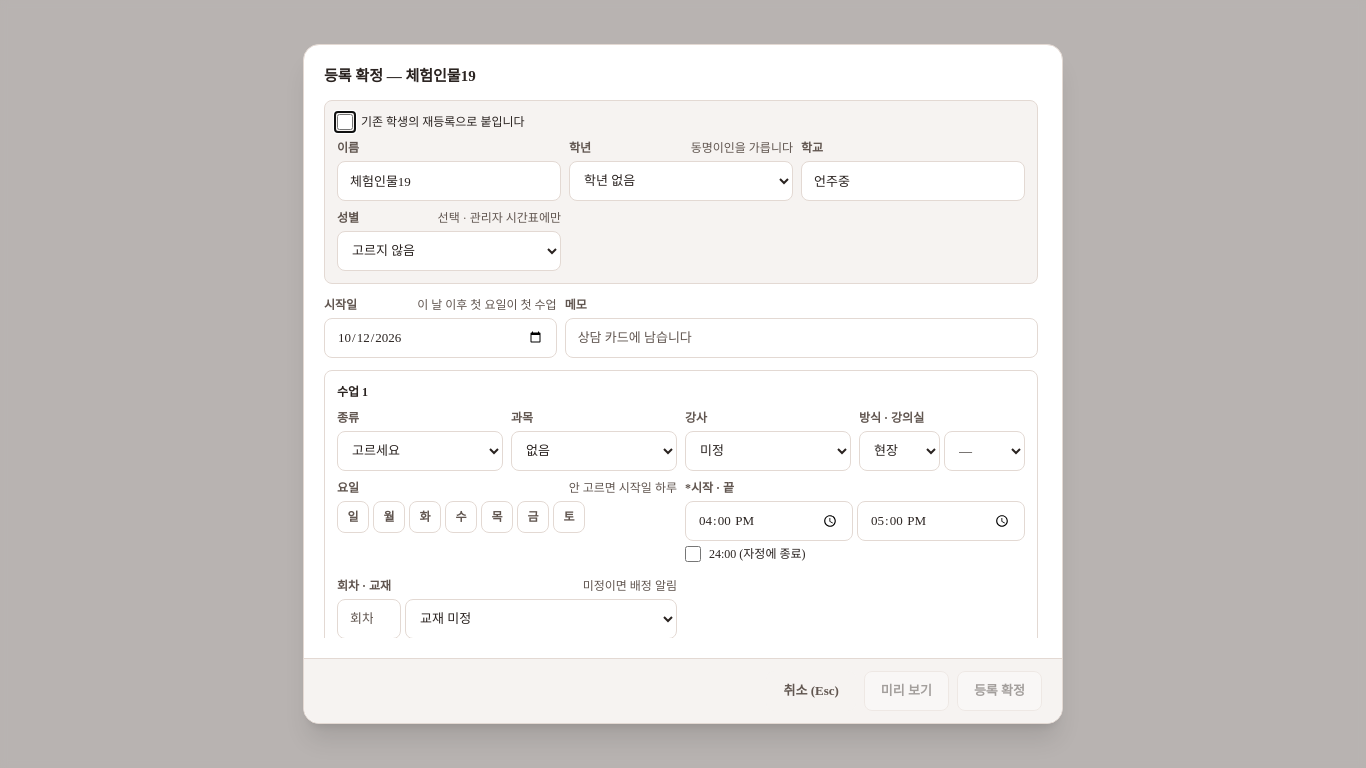
A-01 — 문의 연락처가 보호자로 이어지면 미리보기에 이름 · 서버의 번호 모양 · 「받는 채널은 보호자 화면에서」가 선다 · 없으면 줄이 없다
The image size is (1366, 768).
Type "2026-10-01" into the date field labelled "시작일" at (440, 338), box [324, 318, 557, 358]
(page scrolled)
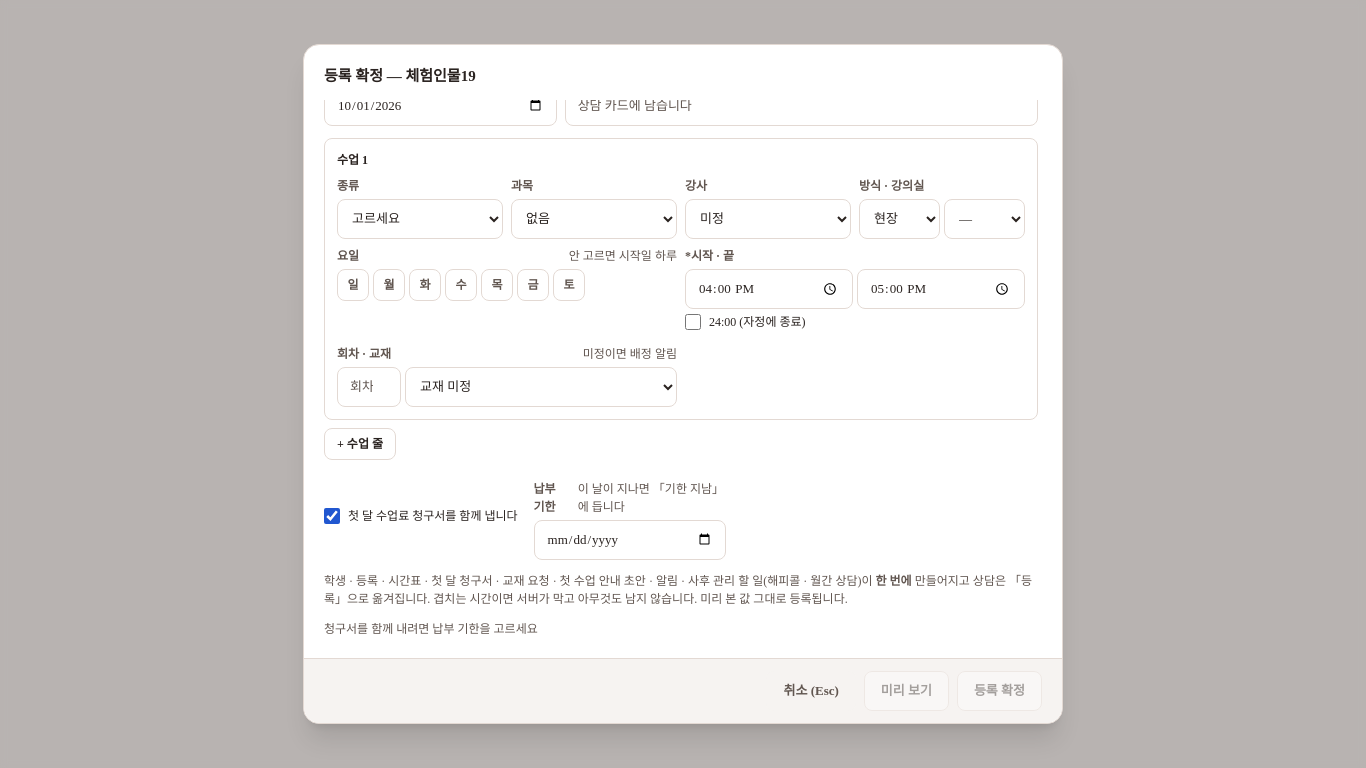
Type "2026-10-25" into the date field labelled "납부 기한" at (630, 540), box [534, 520, 726, 560]
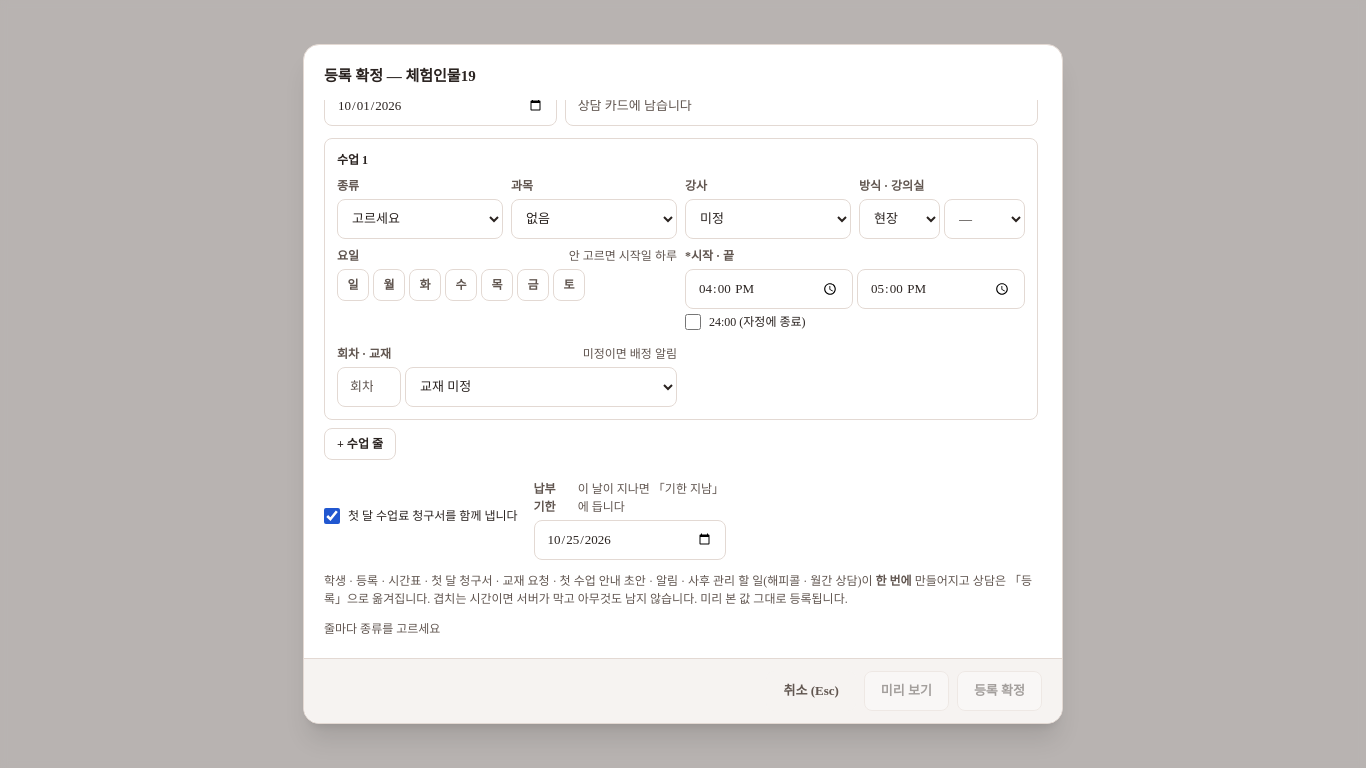
Select "수업" in the dropdown named "수업 1 종류" at (420, 219), box [337, 199, 503, 239]
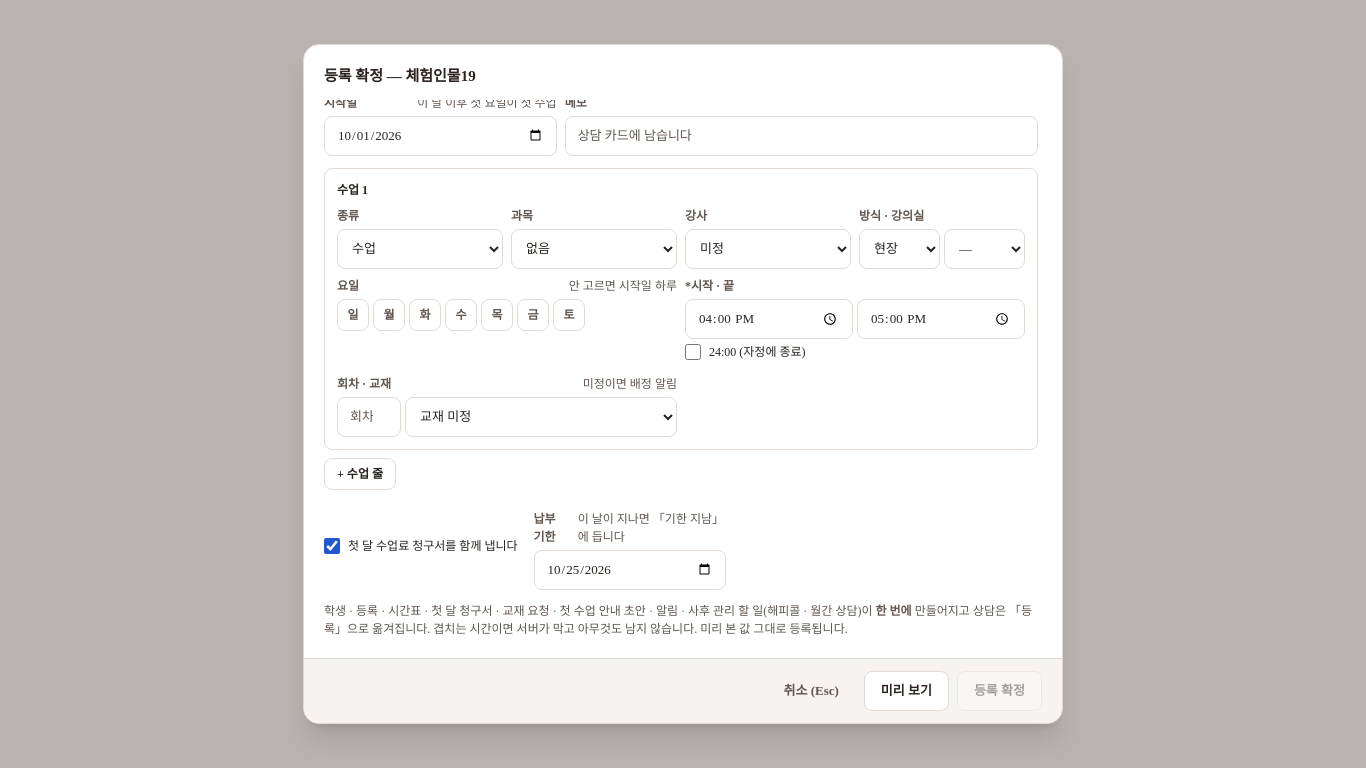
Select "Writing" in the dropdown named "수업 1 과목" at (594, 249), box [511, 229, 677, 269]
Select "체험인물11" in the dropdown named "수업 1 강사" at (768, 249), box [685, 229, 851, 269]
Click the button named "수업 1 월요일" at (389, 315), box [373, 299, 405, 331]
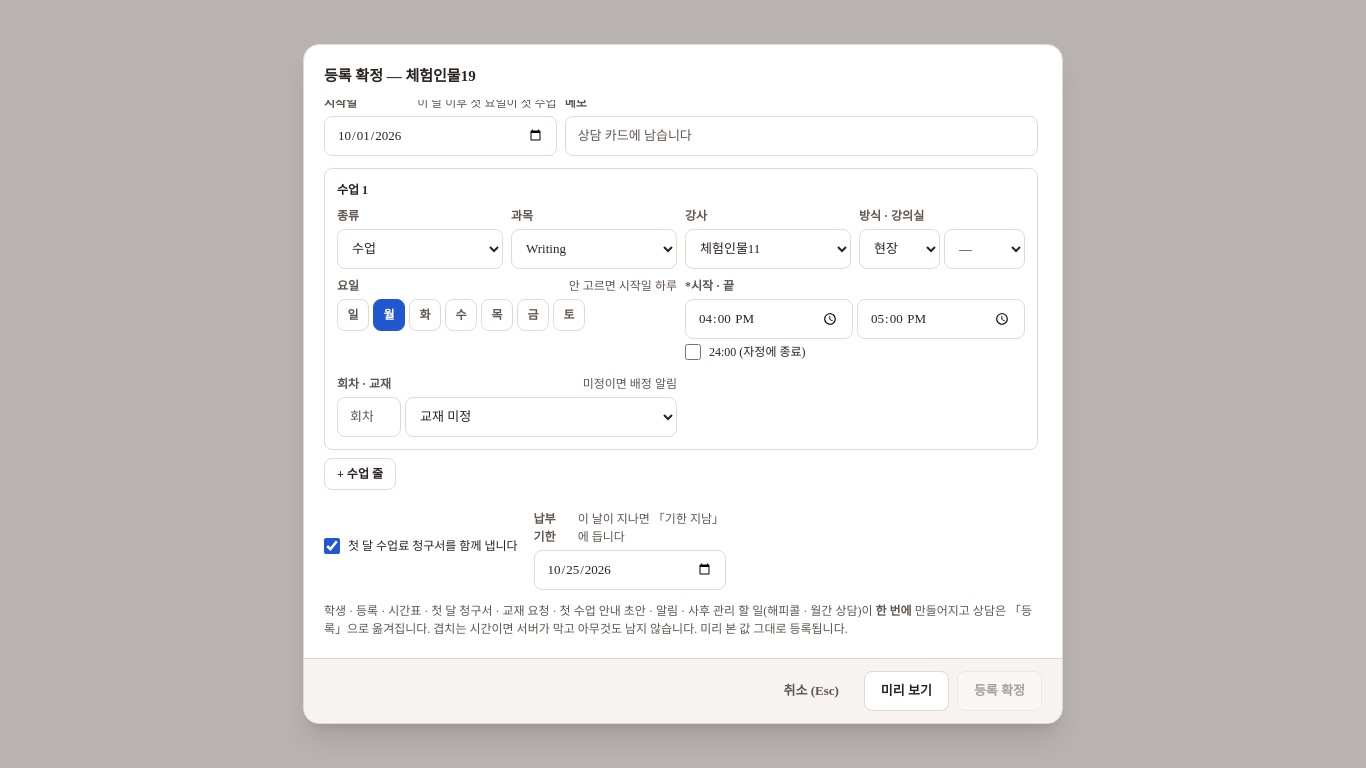
Click the button named "수업 1 수요일" at (461, 315), box [445, 299, 477, 331]
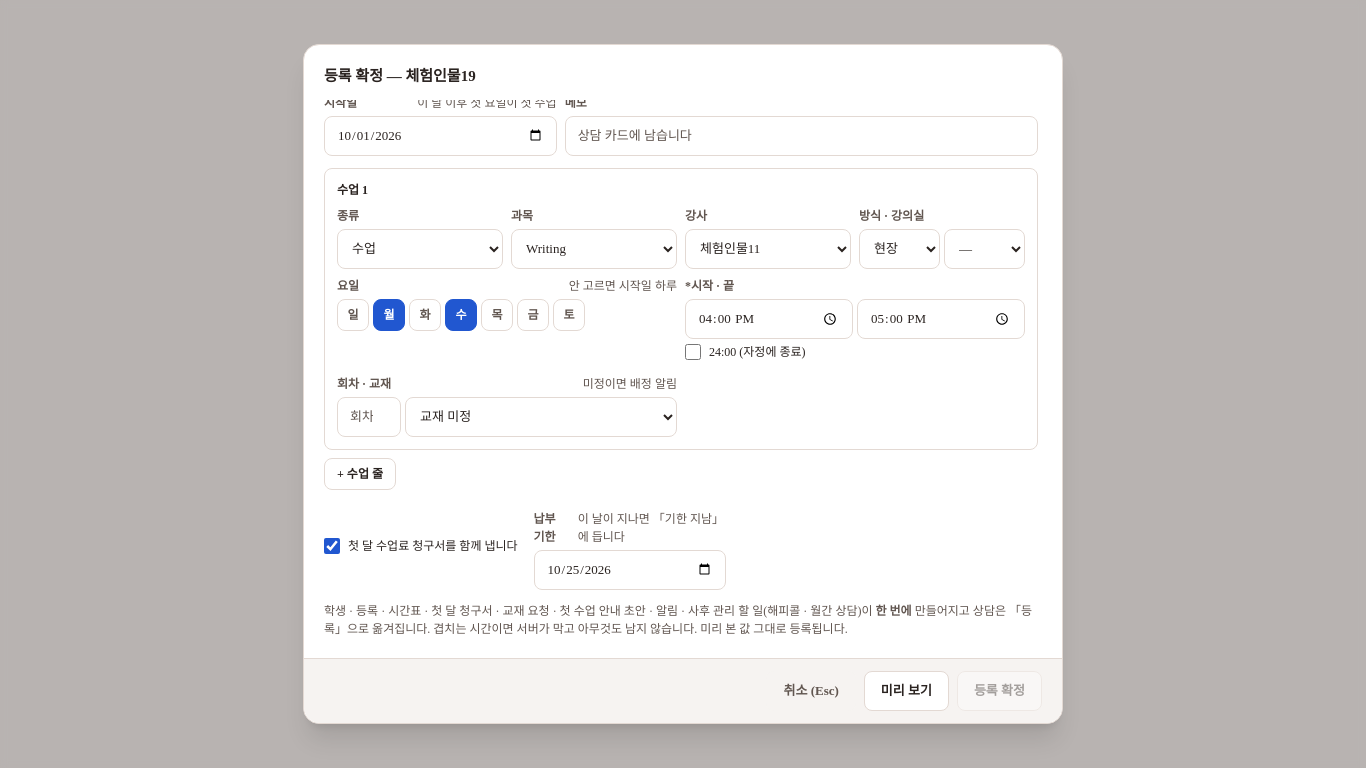
Click the button "미리 보기" at (906, 690), box [864, 670, 949, 710]
(page scrolled)
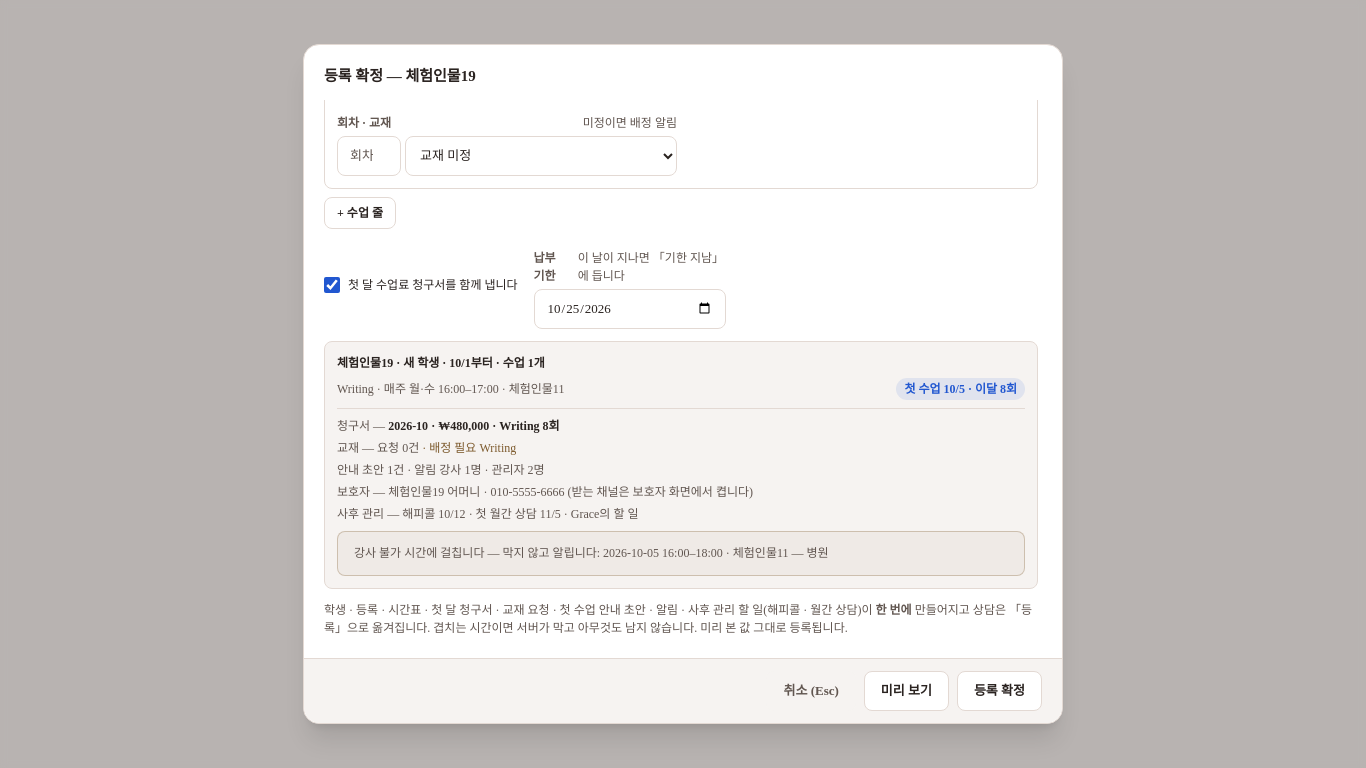
expect the element named "등록 미리보기" shows "보호자 — 체험인물19 어머니 · 010-5555-6666 (받는 채널은 보호자 화면에서 켭니다)": met, box [324, 341, 1038, 590]
